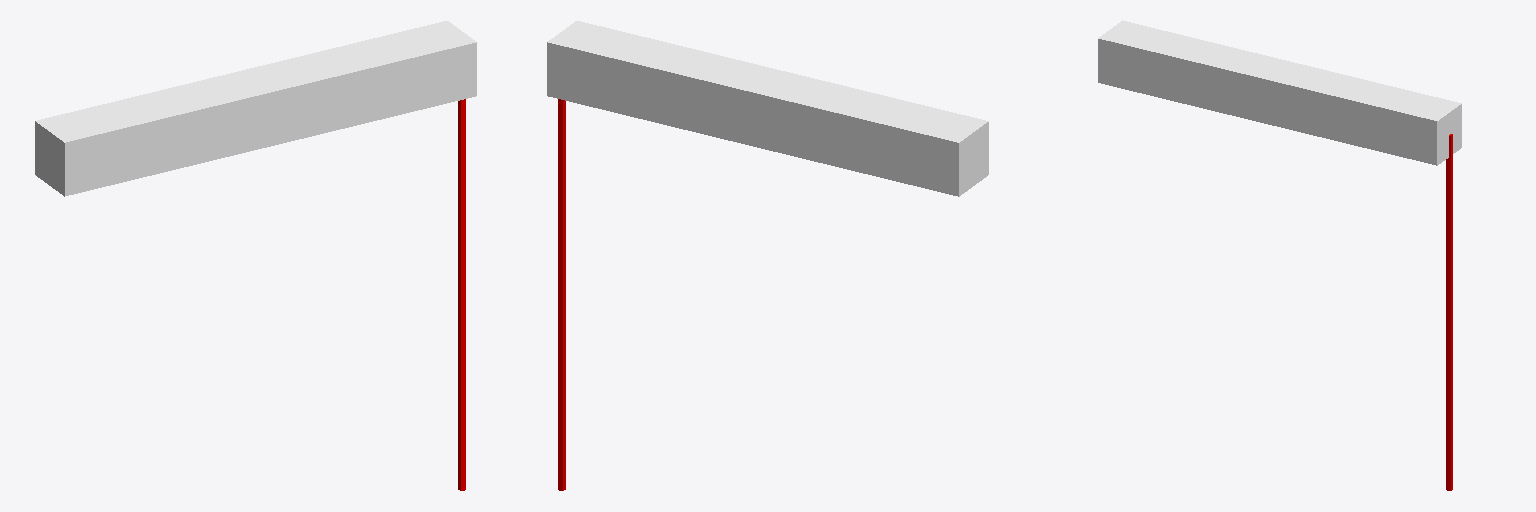
The robot description file, URDF, robot "L_shaped_tool":
<?xml version="1.0" ?>
<robot name="L_shaped_tool">

  <!-- Root link -->
  <link name="moving_link">
    <inertial>
      <mass value="0.276" />
      <origin xyz="0 0 0" rpy="0 0 0"/>
      <inertia ixx="0.0004" ixy="0.0" ixz="0.0" iyy="0.0004" iyz="0.0" izz="0.0004" />
    </inertial>
    <visual>
      <origin rpy="0 0 0" xyz="0 0 0" />
      <geometry><mesh filename="distal_198.obj" scale="1 1 1" /></geometry>
      <material name="grey"><color rgba="0.7 0.7 0.7 1"/></material>
    </visual>
    <collision>
      <origin rpy="1.57 0 0" xyz="0 0 0" />
      <geometry><mesh filename="distal_198_coacd.obj" scale="1 1 1" /></geometry>
    </collision>
  </link>

  <joint name="ankle_mount_joint" type="fixed">
    <parent link="moving_link"/>
    <child link="pin_link"/>
    <origin xyz="0 -0.03 0.08" rpy="0 0 0"/>
  </joint>

  <link name="pin_link">
    <inertial>
      <origin xyz="0 0 -0.04" rpy="0 0 0"/>
      <mass value="0.01"/> <inertia ixx="0.0001" ixy="0" ixz="0" iyy="0.0001" iyz="0" izz="0.0001"/>
    </inertial>
    <visual>
      <origin xyz="0 0 -0.04" rpy="0 0 0"/>
      <geometry><box size="0.001 0.001 0.08"/></geometry>
      <material name="red"><color rgba="1 0 0 1"/></material>
    </visual>
    <collision>
      <origin xyz="0 0 -0.04" rpy="0 0 0"/>
      <geometry><box size="0.001 0.001 0.08"/></geometry>
    </collision>
  </link>

  <joint name="load_cell_joint" type="fixed">
    <parent link="pin_link"/>
    <child link="base_link"/>
    <origin xyz="0 0 0" rpy="0 0 0"/>
  </joint>

  <link name="base_link">
    <inertial>
      <origin xyz="-0.04 0 0" rpy="0 0 1.57"/>
      <mass value="0.01"/> <inertia ixx="0.0001" ixy="0" ixz="0" iyy="0.0001" iyz="0" izz="0.0001"/>
    </inertial>
    <visual>
      <origin xyz="-0.04 -0.0 0" rpy="0 0 1.57"/>
      <geometry><box size="0.01 0.08 0.01"/></geometry>
      <material name="white"><color rgba="1 1 1 1"/></material>
    </visual>
    <collision>
      <origin xyz="-0.04 0 0" rpy="0 0 1.57"/>
      <geometry><box size="0.01 0.08 0.01"/></geometry>
    </collision>
  </link>

</robot>

--- Facts derived from the render (not from the file) ---
3 views of the same robot in one strip: view 1: azimuth 30°, elevation 25°; view 2: azimuth 150°, elevation 25°; view 3: azimuth 330°, elevation 25° (orthographic).
Model L_shaped_tool with 3 links and 2 joints (2 fixed), rooted at moving_link, posed all joints at 0.
Visible links, largest first — view 1: base_link, pin_link; view 2: base_link, pin_link; view 3: base_link, pin_link.
Boxes of the visible links, <box> form: base_link: <box>35,21,476,196</box>; pin_link: <box>458,99,465,490</box>; base_link: <box>547,21,988,196</box>; pin_link: <box>558,99,565,490</box>; base_link: <box>1098,20,1461,165</box>; pin_link: <box>1446,134,1452,490</box>.
Size in the robot's own frame: 0.0805 by 0.0101 by 0.085 metres.
Meshes: 1 distinct files referenced, 0 mesh visuals loaded (none loaded); not drawn: 1 (reference not matched to a file when rendering).
